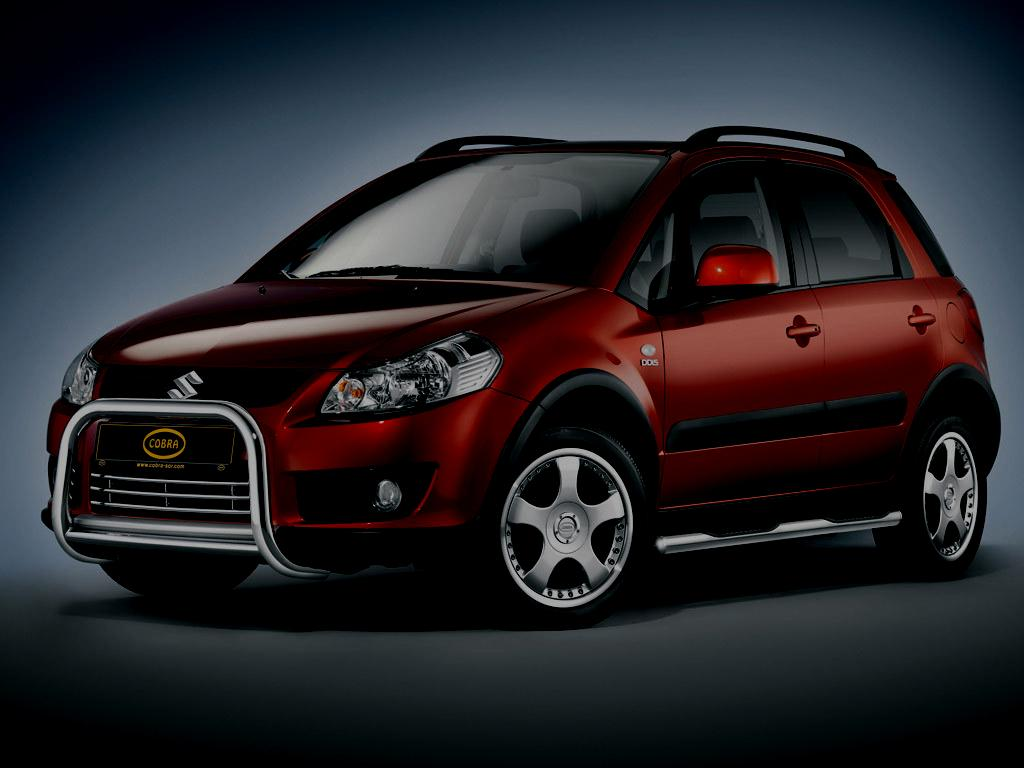suzuki: (159, 369, 207, 411)
